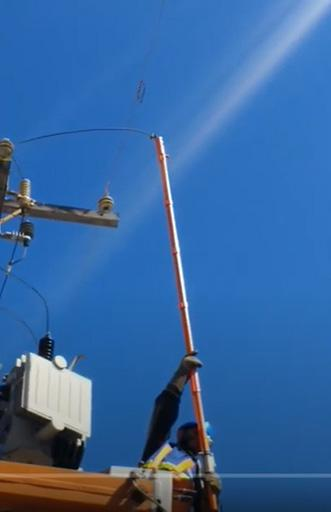Vara_Manobra: (153, 137, 212, 471)
